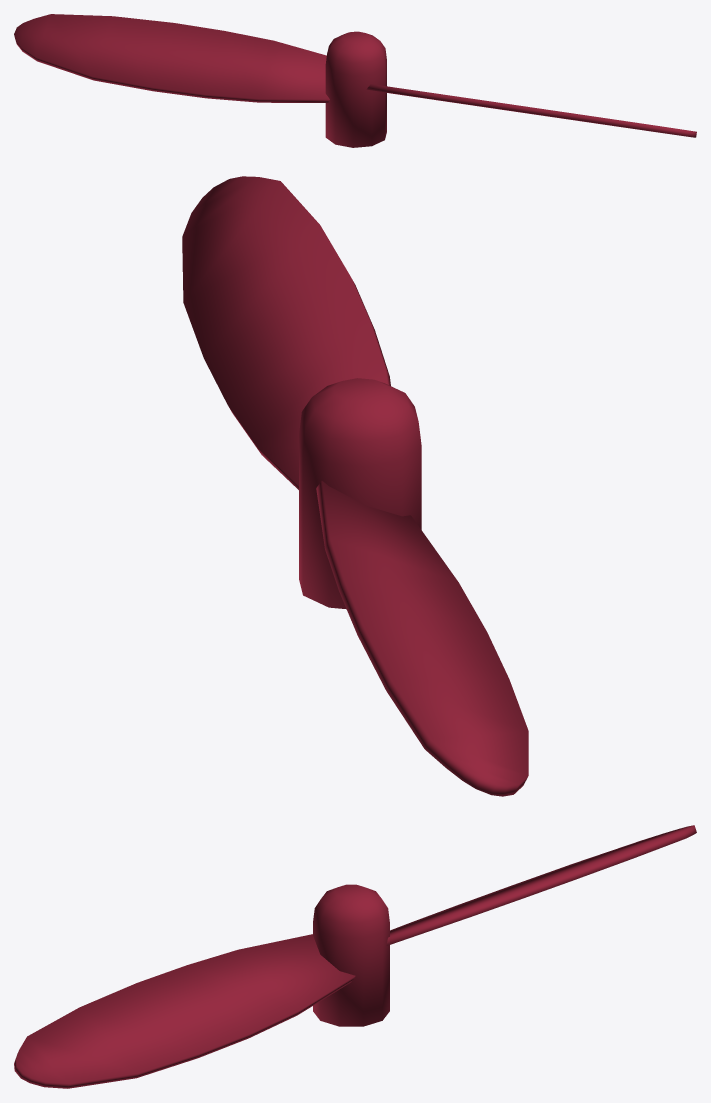
The model's file is propellor_01_red.a5c61fce.glb.
The picture shows the model from 3 angles, top to bottom: view 1: azimuth 30°, elevation 25°; view 2: azimuth 150°, elevation 25°; view 3: azimuth 270°, elevation 25°; orthographic projection. The views are drawn at different scales.
Parts seen in each view (by area): view 1: Circle.005; view 2: Circle.005; view 3: Circle.005.
Part boxes in pixels (bbox=[...]): Circle.005: bbox=[14, 14, 696, 147]; Circle.005: bbox=[182, 176, 528, 796]; Circle.005: bbox=[14, 825, 696, 1088].
Size of the model in its own units: 2.25 by 0.5037 by 2.6.
